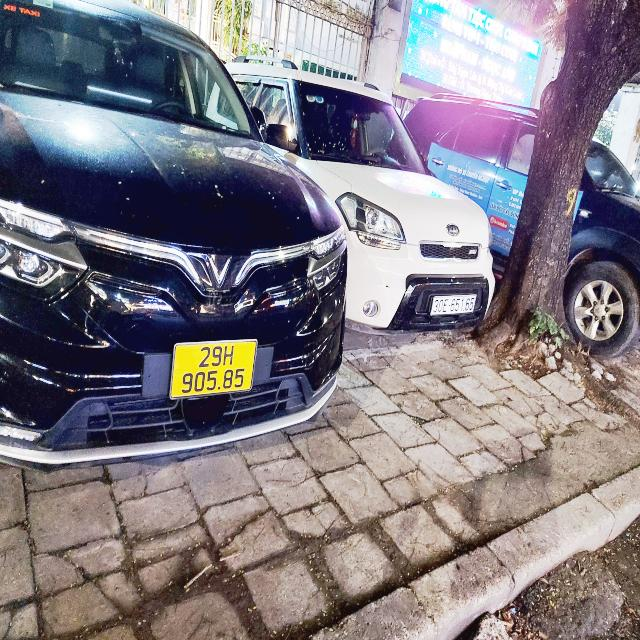license_plate: (168, 337, 261, 403), (429, 294, 480, 318)
